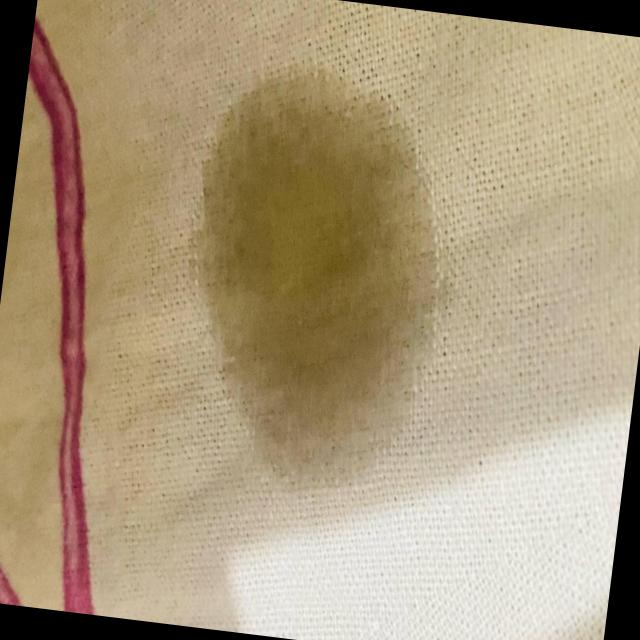stain: (164, 52, 480, 505)
